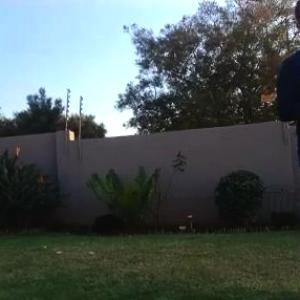follow: (271, 0, 299, 299)
